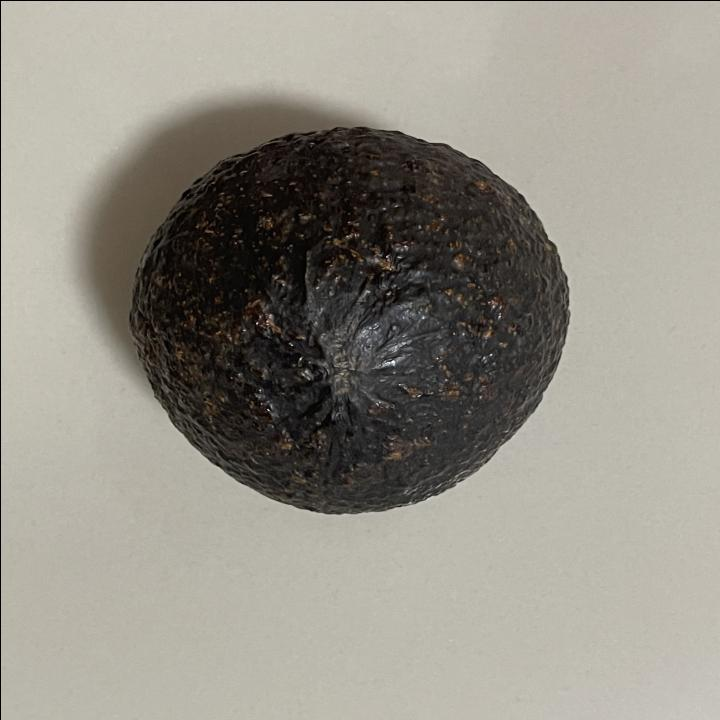Level2: (114, 120, 578, 524)
